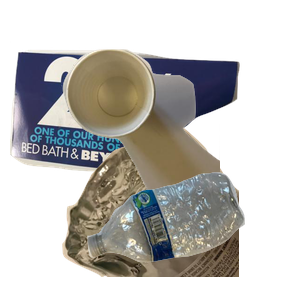glass: (60, 120, 300, 300)
paper: (10, 41, 242, 207)
plastic: (85, 170, 300, 300)
trash: (60, 47, 300, 227)
